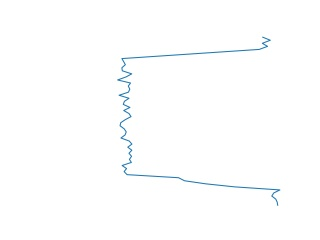distributaryChannelFill: (113, 37, 288, 206)
